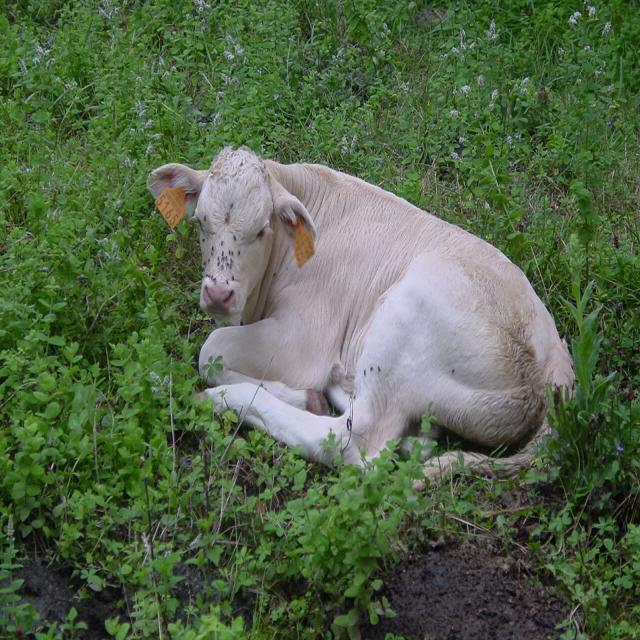cow: (148, 148, 574, 481)
